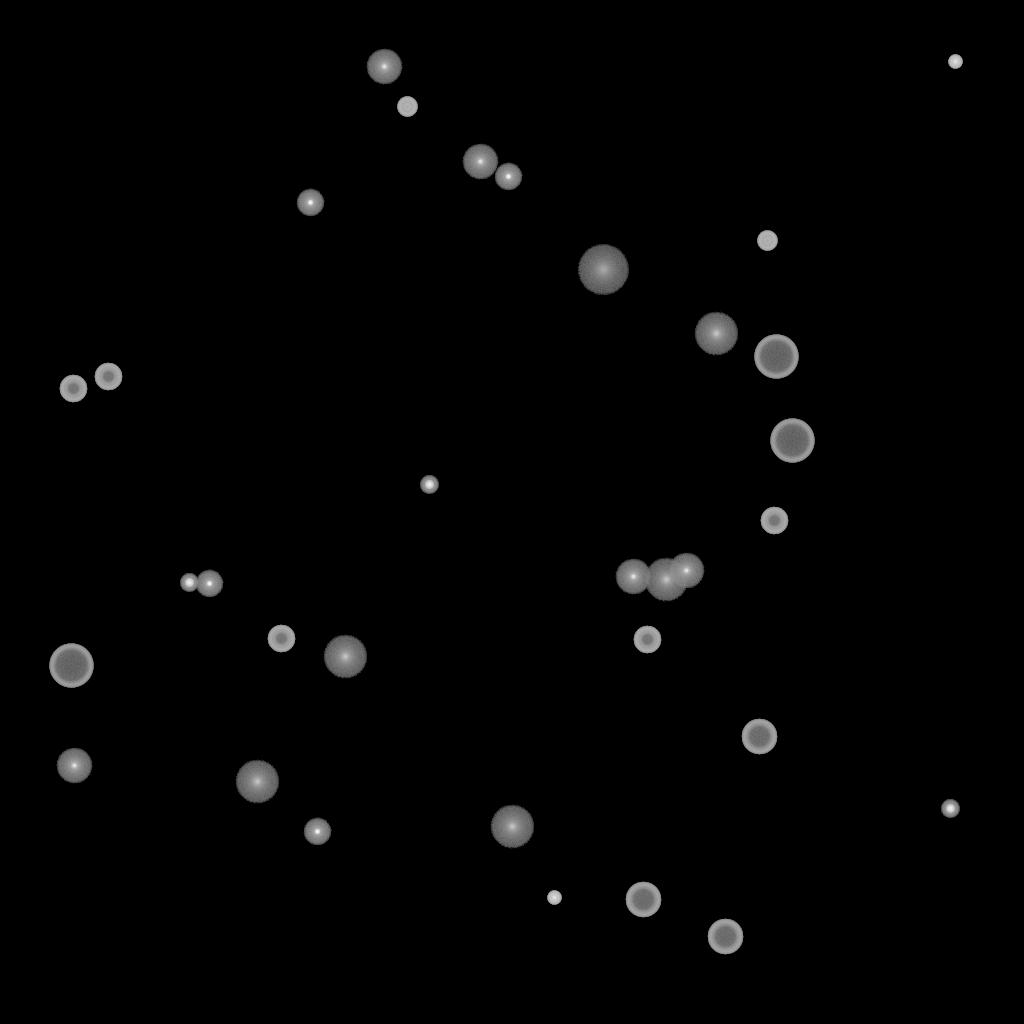depth:-10: (303, 818, 331, 846), (296, 189, 324, 217), (494, 163, 522, 191), (195, 570, 223, 598)
depth:-20: (941, 800, 959, 818), (180, 574, 198, 592), (420, 476, 438, 494)
depth:-30: (948, 55, 962, 69), (547, 891, 561, 905)
depth:-40: (397, 97, 417, 117), (757, 231, 777, 251)
depth:-50: (760, 507, 788, 535), (94, 363, 122, 391), (633, 626, 661, 654), (59, 375, 87, 403), (267, 625, 295, 653)
depth:-60: (625, 882, 661, 918), (741, 719, 777, 755), (707, 919, 743, 955)
depth:-70: (770, 419, 814, 463), (49, 644, 93, 688), (754, 335, 798, 379)
depth:0: (462, 144, 498, 180), (615, 559, 651, 595), (56, 748, 92, 784), (668, 553, 704, 589), (366, 49, 402, 85)
depth:10: (490, 805, 534, 849), (235, 760, 279, 804), (644, 558, 688, 602), (694, 312, 738, 356), (323, 635, 367, 679)
depth:20: (577, 245, 629, 295)
